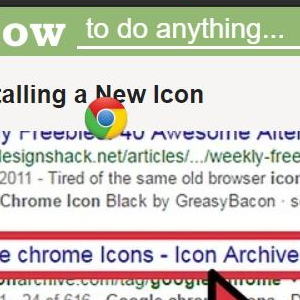chrome: (84, 96, 128, 141)
